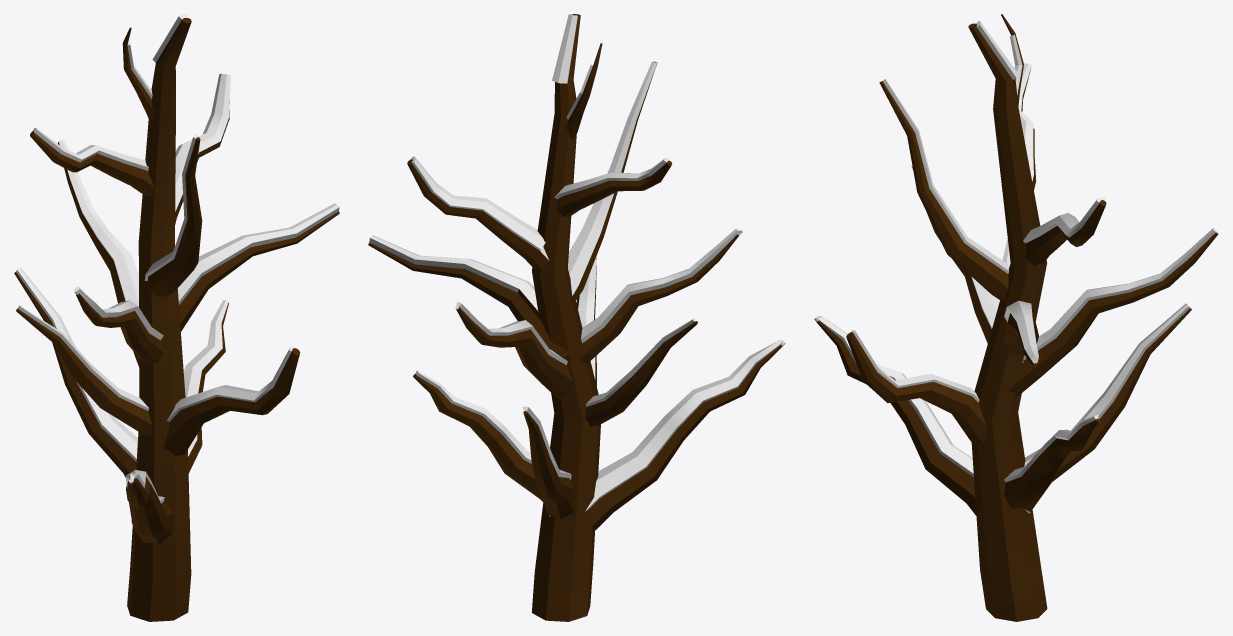
File: Dead_tree_1.fbx
3 views of the same model, side by side, from view 1: azimuth 30°, elevation 25°; view 2: azimuth 150°, elevation 25°; view 3: azimuth 270°, elevation 25° (orthographic). The views are drawn at different scales.
Visible parts, largest first — view 1: Dead_tree_1; view 2: Dead_tree_1; view 3: Dead_tree_1.
Boxes of the visible parts, bbox=[...] form: Dead_tree_1: bbox=[14, 14, 339, 621]; Dead_tree_1: bbox=[368, 14, 785, 621]; Dead_tree_1: bbox=[814, 14, 1218, 621].
Bounding box in the file's own units: 330 × 573 × 357.
